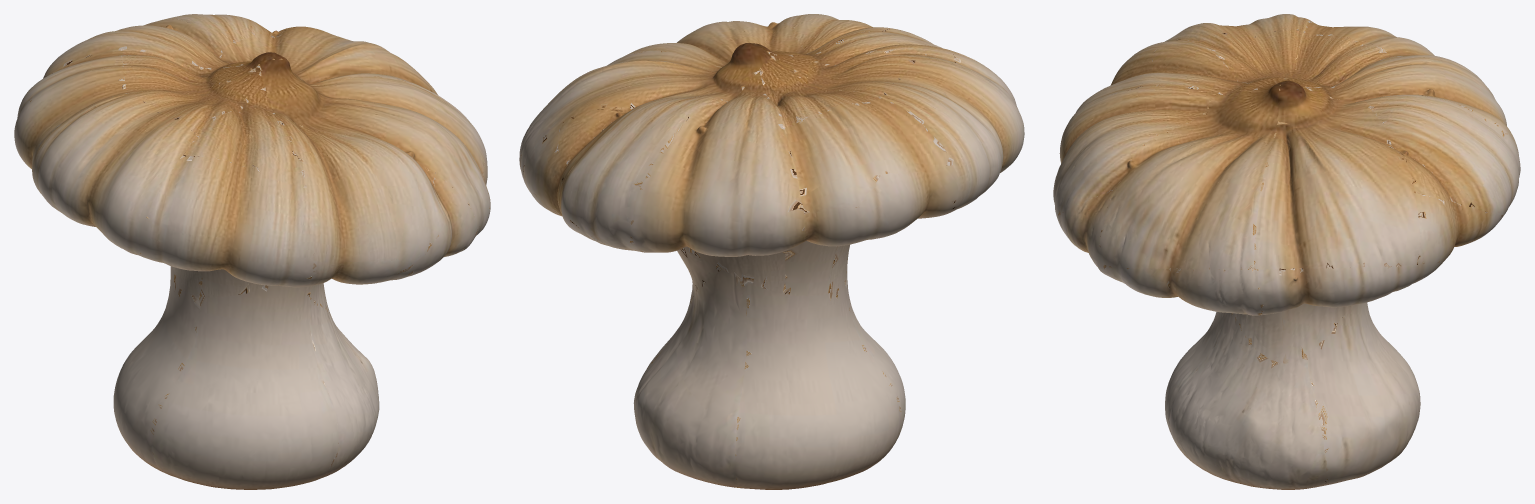
Rendered from mushroom.glb.
3 views of the same model, side by side, from view 1: azimuth 30°, elevation 25°; view 2: azimuth 150°, elevation 25°; view 3: azimuth 270°, elevation 25° (orthographic). The views are drawn at different scales.
Parts seen in each view (by area): view 1: tripo_node_4c7f65dd-c546-4293-8bb1-0910909d7321; view 2: tripo_node_4c7f65dd-c546-4293-8bb1-0910909d7321; view 3: tripo_node_4c7f65dd-c546-4293-8bb1-0910909d7321.
Boxes of the visible parts, x1,y1,x2,y2 form: tripo_node_4c7f65dd-c546-4293-8bb1-0910909d7321: (14,14,490,489); tripo_node_4c7f65dd-c546-4293-8bb1-0910909d7321: (519,14,1024,489); tripo_node_4c7f65dd-c546-4293-8bb1-0910909d7321: (1053,14,1520,489).
Size of the model in its own units: 0.9973 by 0.8949 by 1.
1 material, 1 textured.
